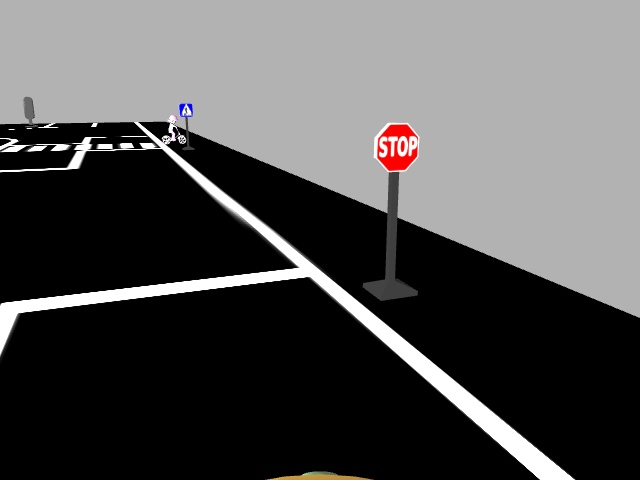Stop: (373, 121, 418, 171)
